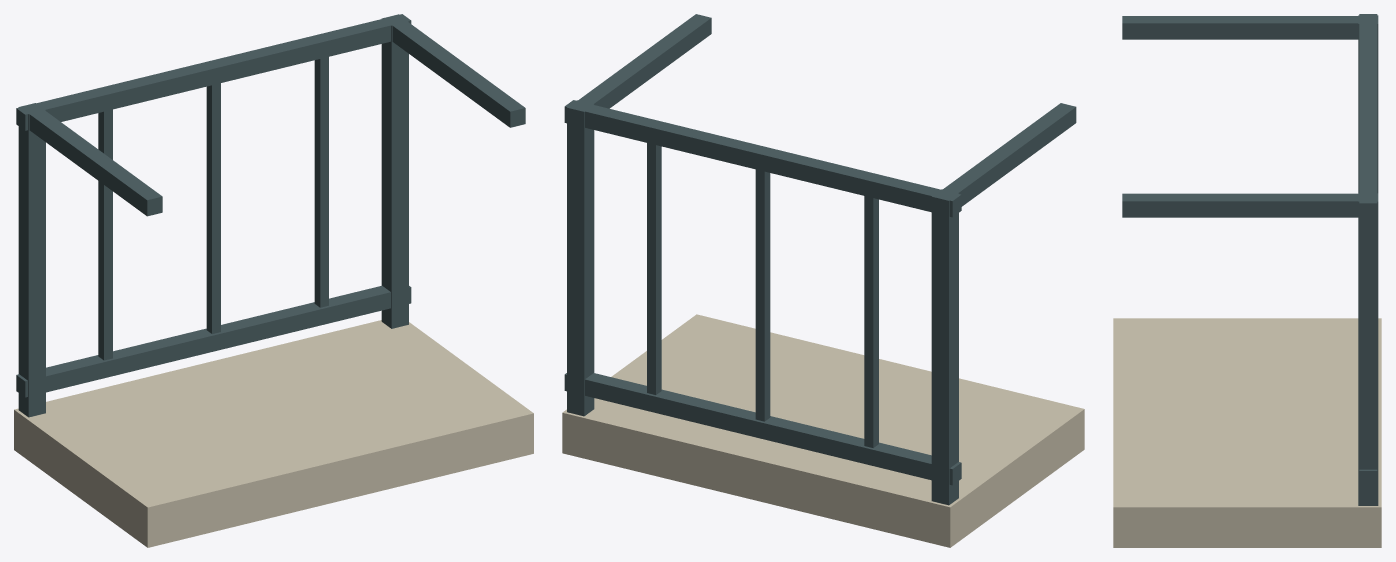
The model's file is balcony.glb.
The picture shows the model from 3 angles, left to right: view 1: azimuth 30°, elevation 25°; view 2: azimuth 150°, elevation 25°; view 3: azimuth 270°, elevation 25°; orthographic projection.
Parts seen in each view (by area): view 1: CITY_balcony; view 2: CITY_balcony; view 3: CITY_balcony.
Part boxes in pixels (box(x1,y1,x2,y2)): CITY_balcony: box(14, 14, 533, 547); CITY_balcony: box(562, 14, 1084, 547); CITY_balcony: box(1113, 14, 1381, 547).
Size of the model in its own units: 1 by 0.85 by 0.6.
